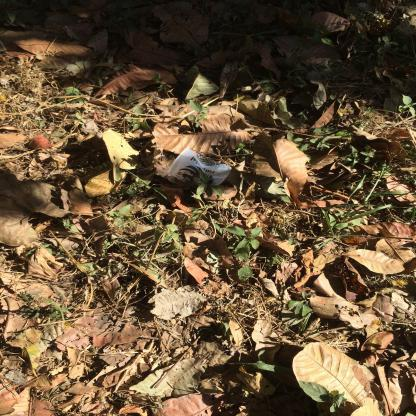plastik: (169, 148, 234, 186)
